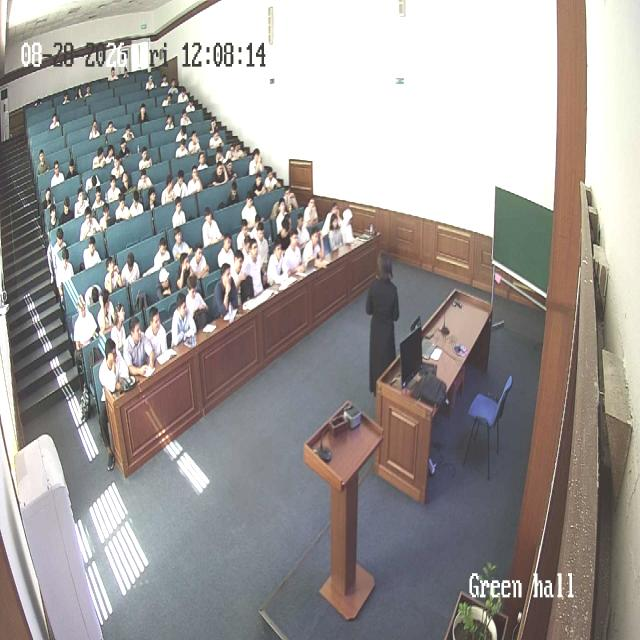person: (364, 250, 400, 394), (98, 337, 130, 400), (123, 316, 155, 378), (212, 264, 240, 321), (232, 248, 258, 305), (170, 294, 197, 348), (143, 308, 169, 364), (73, 296, 99, 352), (243, 236, 267, 294), (184, 276, 210, 328), (267, 235, 291, 286), (110, 303, 130, 357), (55, 246, 75, 300), (302, 225, 325, 271), (283, 228, 305, 276), (96, 292, 117, 340), (216, 229, 238, 273), (250, 218, 270, 266), (201, 207, 223, 248), (323, 213, 343, 258), (188, 240, 210, 280), (175, 252, 195, 294), (81, 232, 101, 271), (156, 264, 176, 302), (103, 255, 122, 294), (339, 207, 357, 248), (272, 200, 290, 241), (120, 251, 140, 287), (170, 228, 190, 264), (79, 206, 99, 241), (153, 236, 171, 272), (240, 194, 258, 230), (236, 219, 253, 256), (302, 196, 320, 230), (281, 184, 299, 218), (171, 196, 187, 232), (187, 165, 203, 198), (160, 176, 176, 208), (104, 174, 121, 203), (134, 165, 154, 189), (173, 170, 188, 200), (226, 180, 242, 208), (173, 136, 189, 163), (131, 188, 146, 216), (250, 166, 264, 196), (136, 145, 152, 171), (247, 145, 263, 171), (112, 154, 130, 177), (136, 100, 151, 127), (84, 169, 105, 188), (72, 190, 90, 212), (90, 143, 104, 171), (120, 171, 135, 197), (63, 158, 78, 184), (104, 137, 117, 166), (101, 200, 114, 228), (266, 162, 279, 190), (49, 159, 64, 183), (187, 130, 202, 154), (45, 110, 61, 132), (225, 154, 237, 183), (144, 70, 157, 96), (121, 117, 134, 142), (208, 129, 222, 152), (168, 74, 184, 94), (46, 202, 59, 226), (105, 115, 119, 137), (226, 143, 240, 165), (118, 134, 130, 159), (113, 200, 128, 220), (196, 151, 208, 176), (214, 162, 227, 185), (147, 184, 159, 208), (180, 110, 196, 128), (38, 147, 48, 175), (213, 146, 227, 165), (164, 113, 176, 135), (88, 120, 101, 140), (108, 65, 120, 83), (163, 92, 176, 108), (121, 64, 134, 80), (62, 198, 72, 218), (74, 85, 86, 101), (185, 95, 196, 112), (44, 190, 54, 208), (160, 69, 170, 87), (209, 118, 220, 134), (176, 127, 187, 143), (178, 84, 185, 105), (85, 81, 94, 96), (62, 90, 70, 106), (36, 96, 45, 107)
